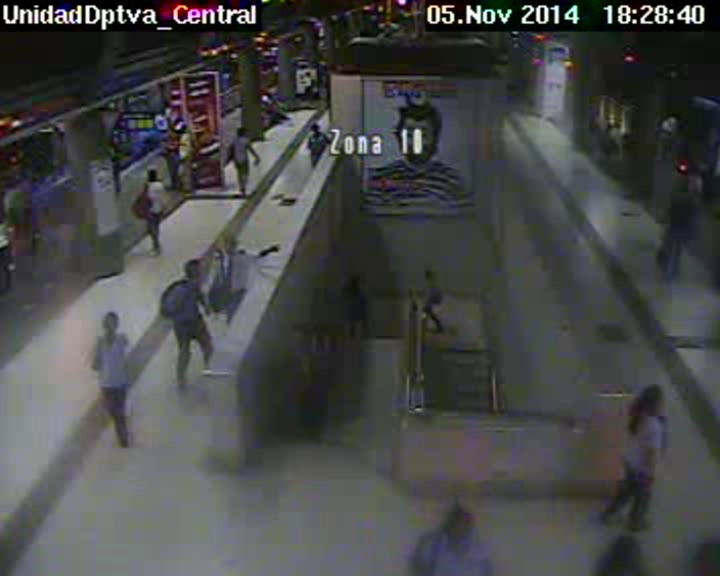person: (442, 506, 470, 537), (637, 384, 662, 415), (185, 257, 201, 279), (221, 237, 238, 255), (103, 311, 119, 330), (305, 321, 322, 338), (344, 273, 361, 288), (1, 177, 18, 191), (675, 182, 689, 198), (174, 121, 187, 136), (234, 126, 247, 138), (310, 121, 322, 134), (147, 170, 157, 180), (425, 272, 435, 281), (267, 86, 275, 95), (263, 89, 270, 96)
